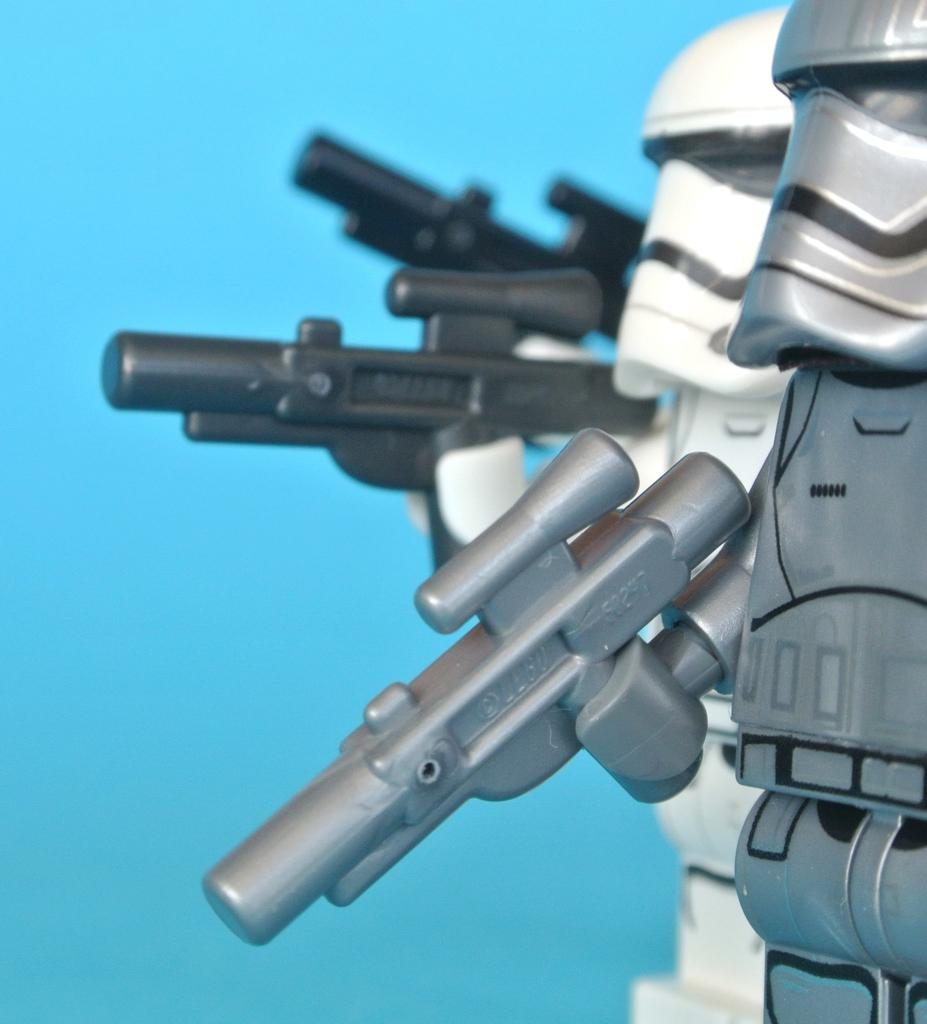Rifle: (198, 408, 807, 1020)
